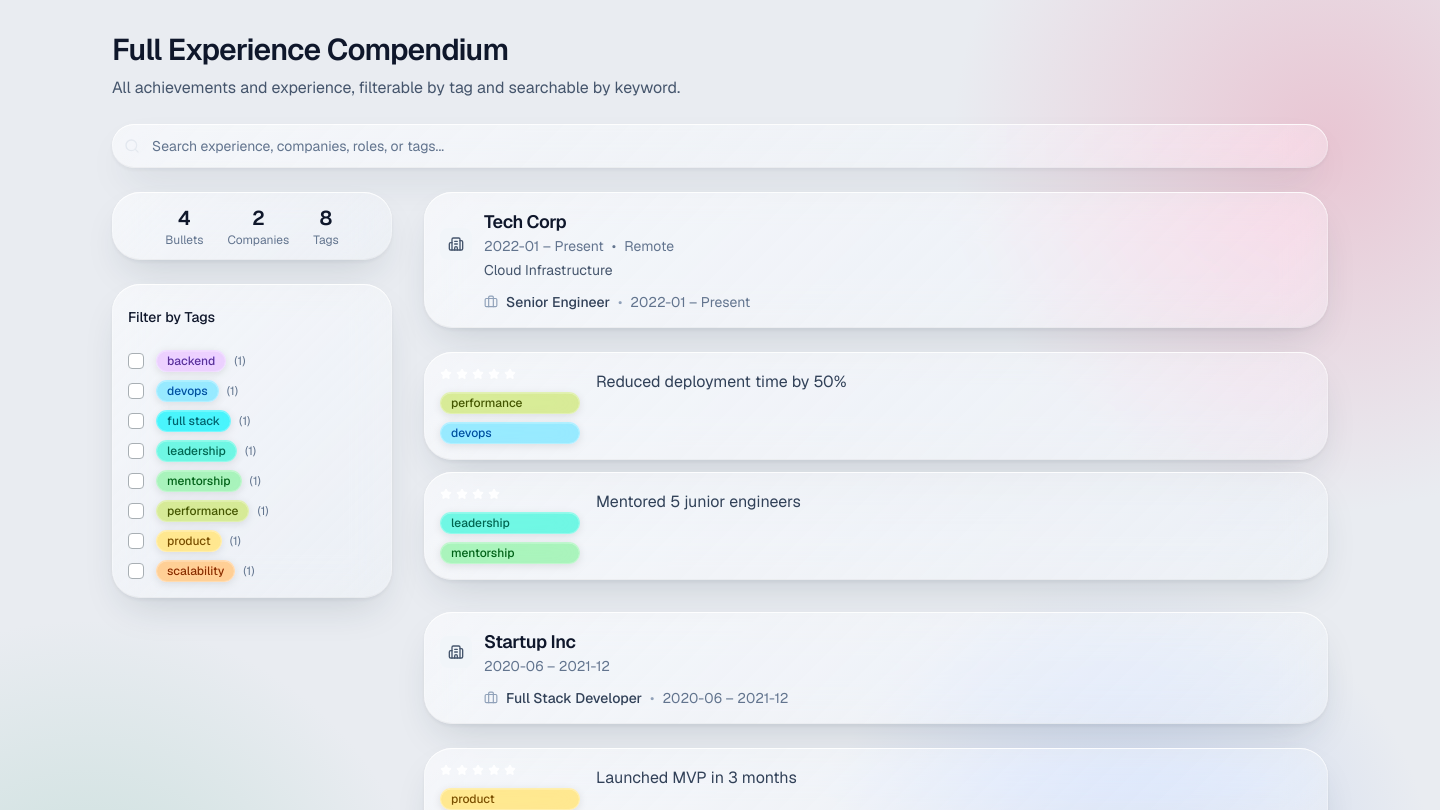
Test: DataExplorer › should filter by company name
In the field with placeholder "Search experience, companies, roles, or tags...": (720,146) left=112, top=124, right=1328, bottom=168, type "Startup"
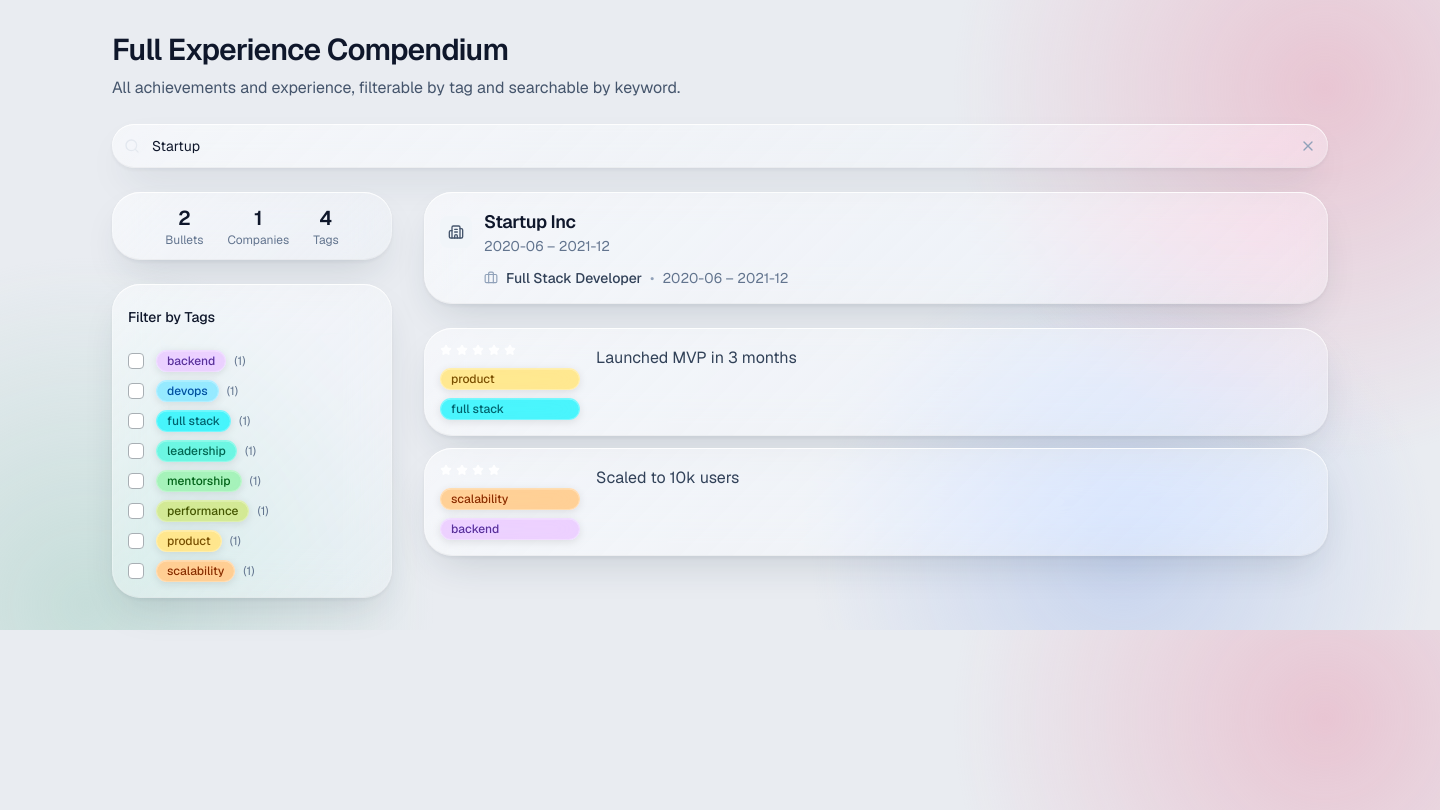
Expected: the text "Launched MVP in 3 months" is shown, left=596, top=347, right=797, bottom=368
Result: the text "Reduced deployment time by 50%" is gone
